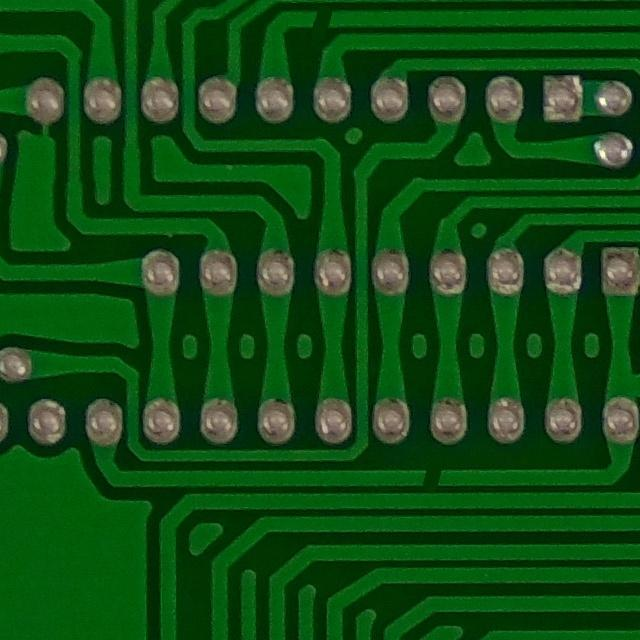open_circuit: (413, 456, 448, 498), (301, 1, 343, 35)
